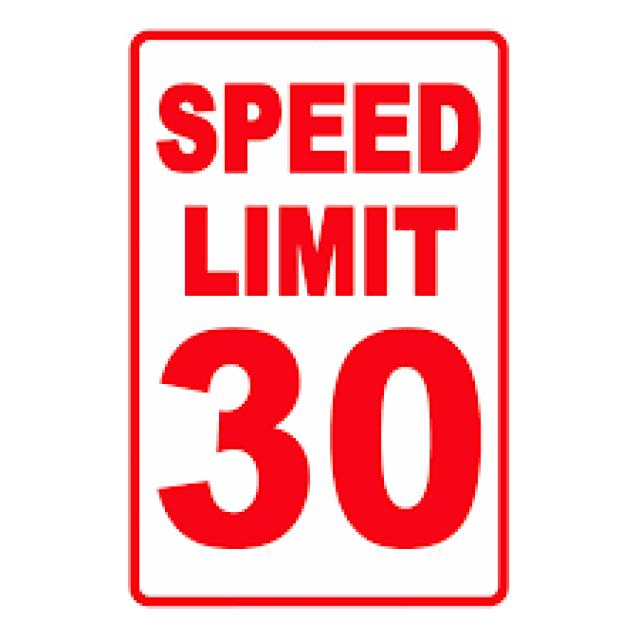Speed limit 30: (123, 27, 513, 610)
